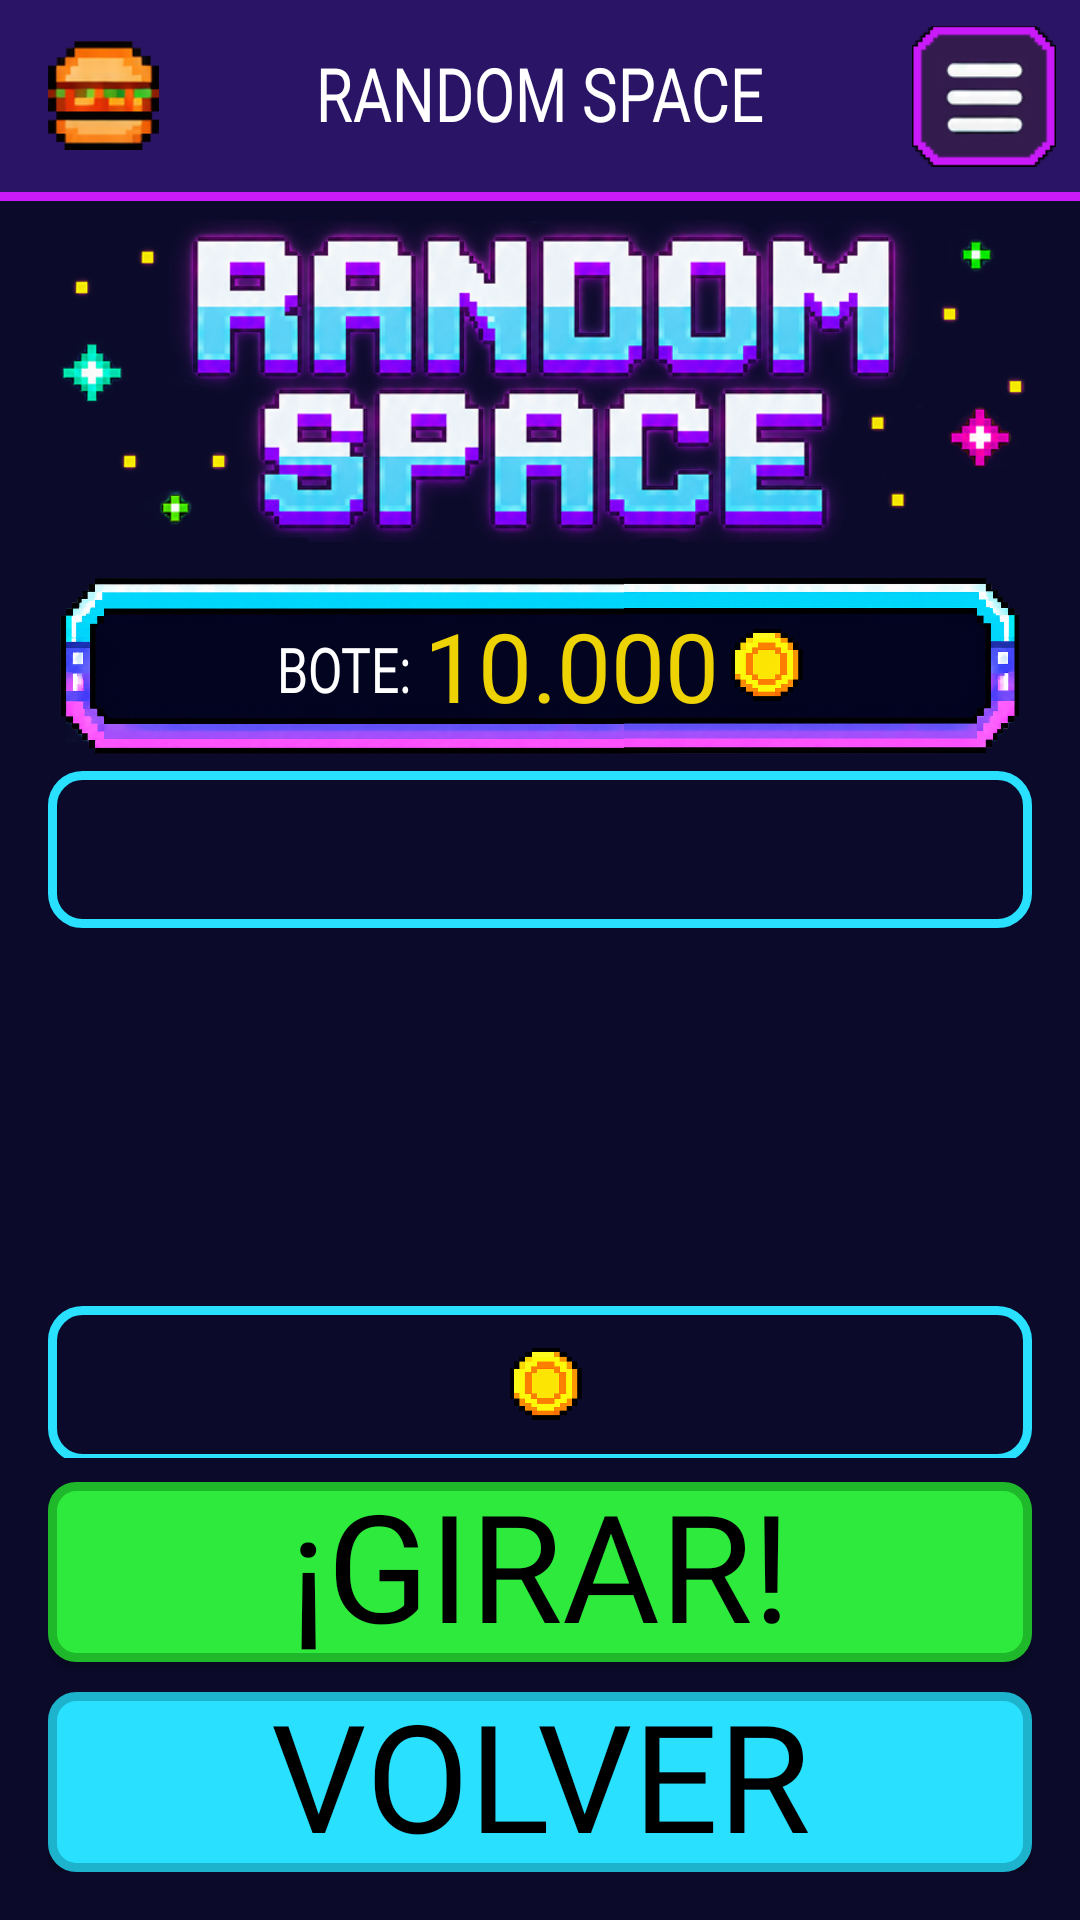

Point at icon controls on the screen. Image size 1080px×1920px, points as (x=x, y=y).
Abrir menú: (x=984, y=96)
burger: (x=103, y=95)
